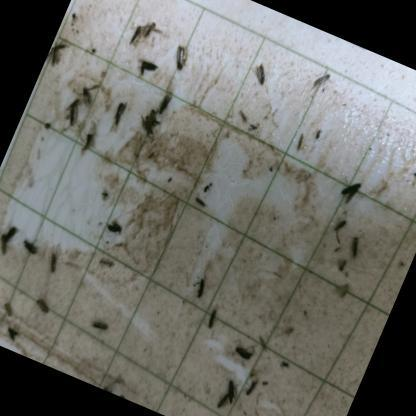prays_oleae: (126, 45, 162, 84), (26, 288, 62, 326), (183, 262, 214, 304), (164, 41, 200, 77), (54, 96, 84, 138), (119, 15, 147, 57), (336, 170, 366, 208), (246, 55, 278, 90), (138, 8, 168, 45), (0, 312, 27, 351), (72, 74, 102, 108), (328, 209, 353, 246), (85, 314, 117, 342), (44, 38, 72, 70), (0, 221, 21, 261), (133, 111, 159, 142), (150, 90, 178, 118), (17, 233, 44, 262), (198, 304, 224, 334), (105, 99, 130, 130), (74, 127, 98, 159), (102, 213, 128, 241), (232, 338, 260, 364), (309, 68, 334, 96), (344, 230, 367, 260), (40, 249, 64, 277), (221, 378, 244, 406), (211, 390, 229, 414), (102, 378, 121, 395)
